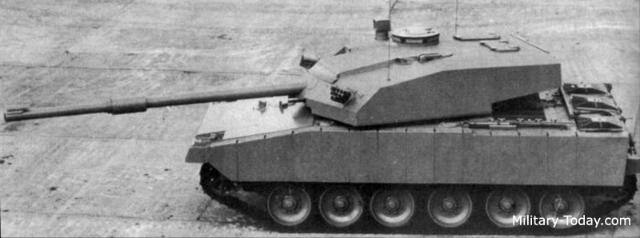tank: (192, 27, 634, 217)
